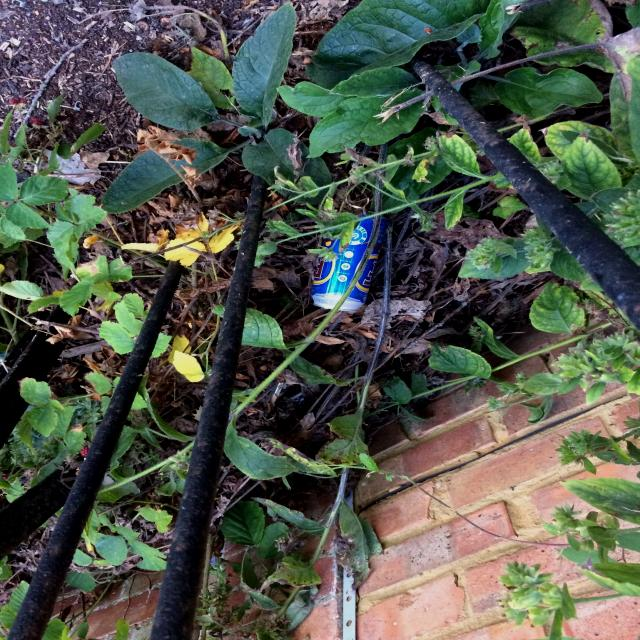Drink can: (311, 216, 388, 311)
